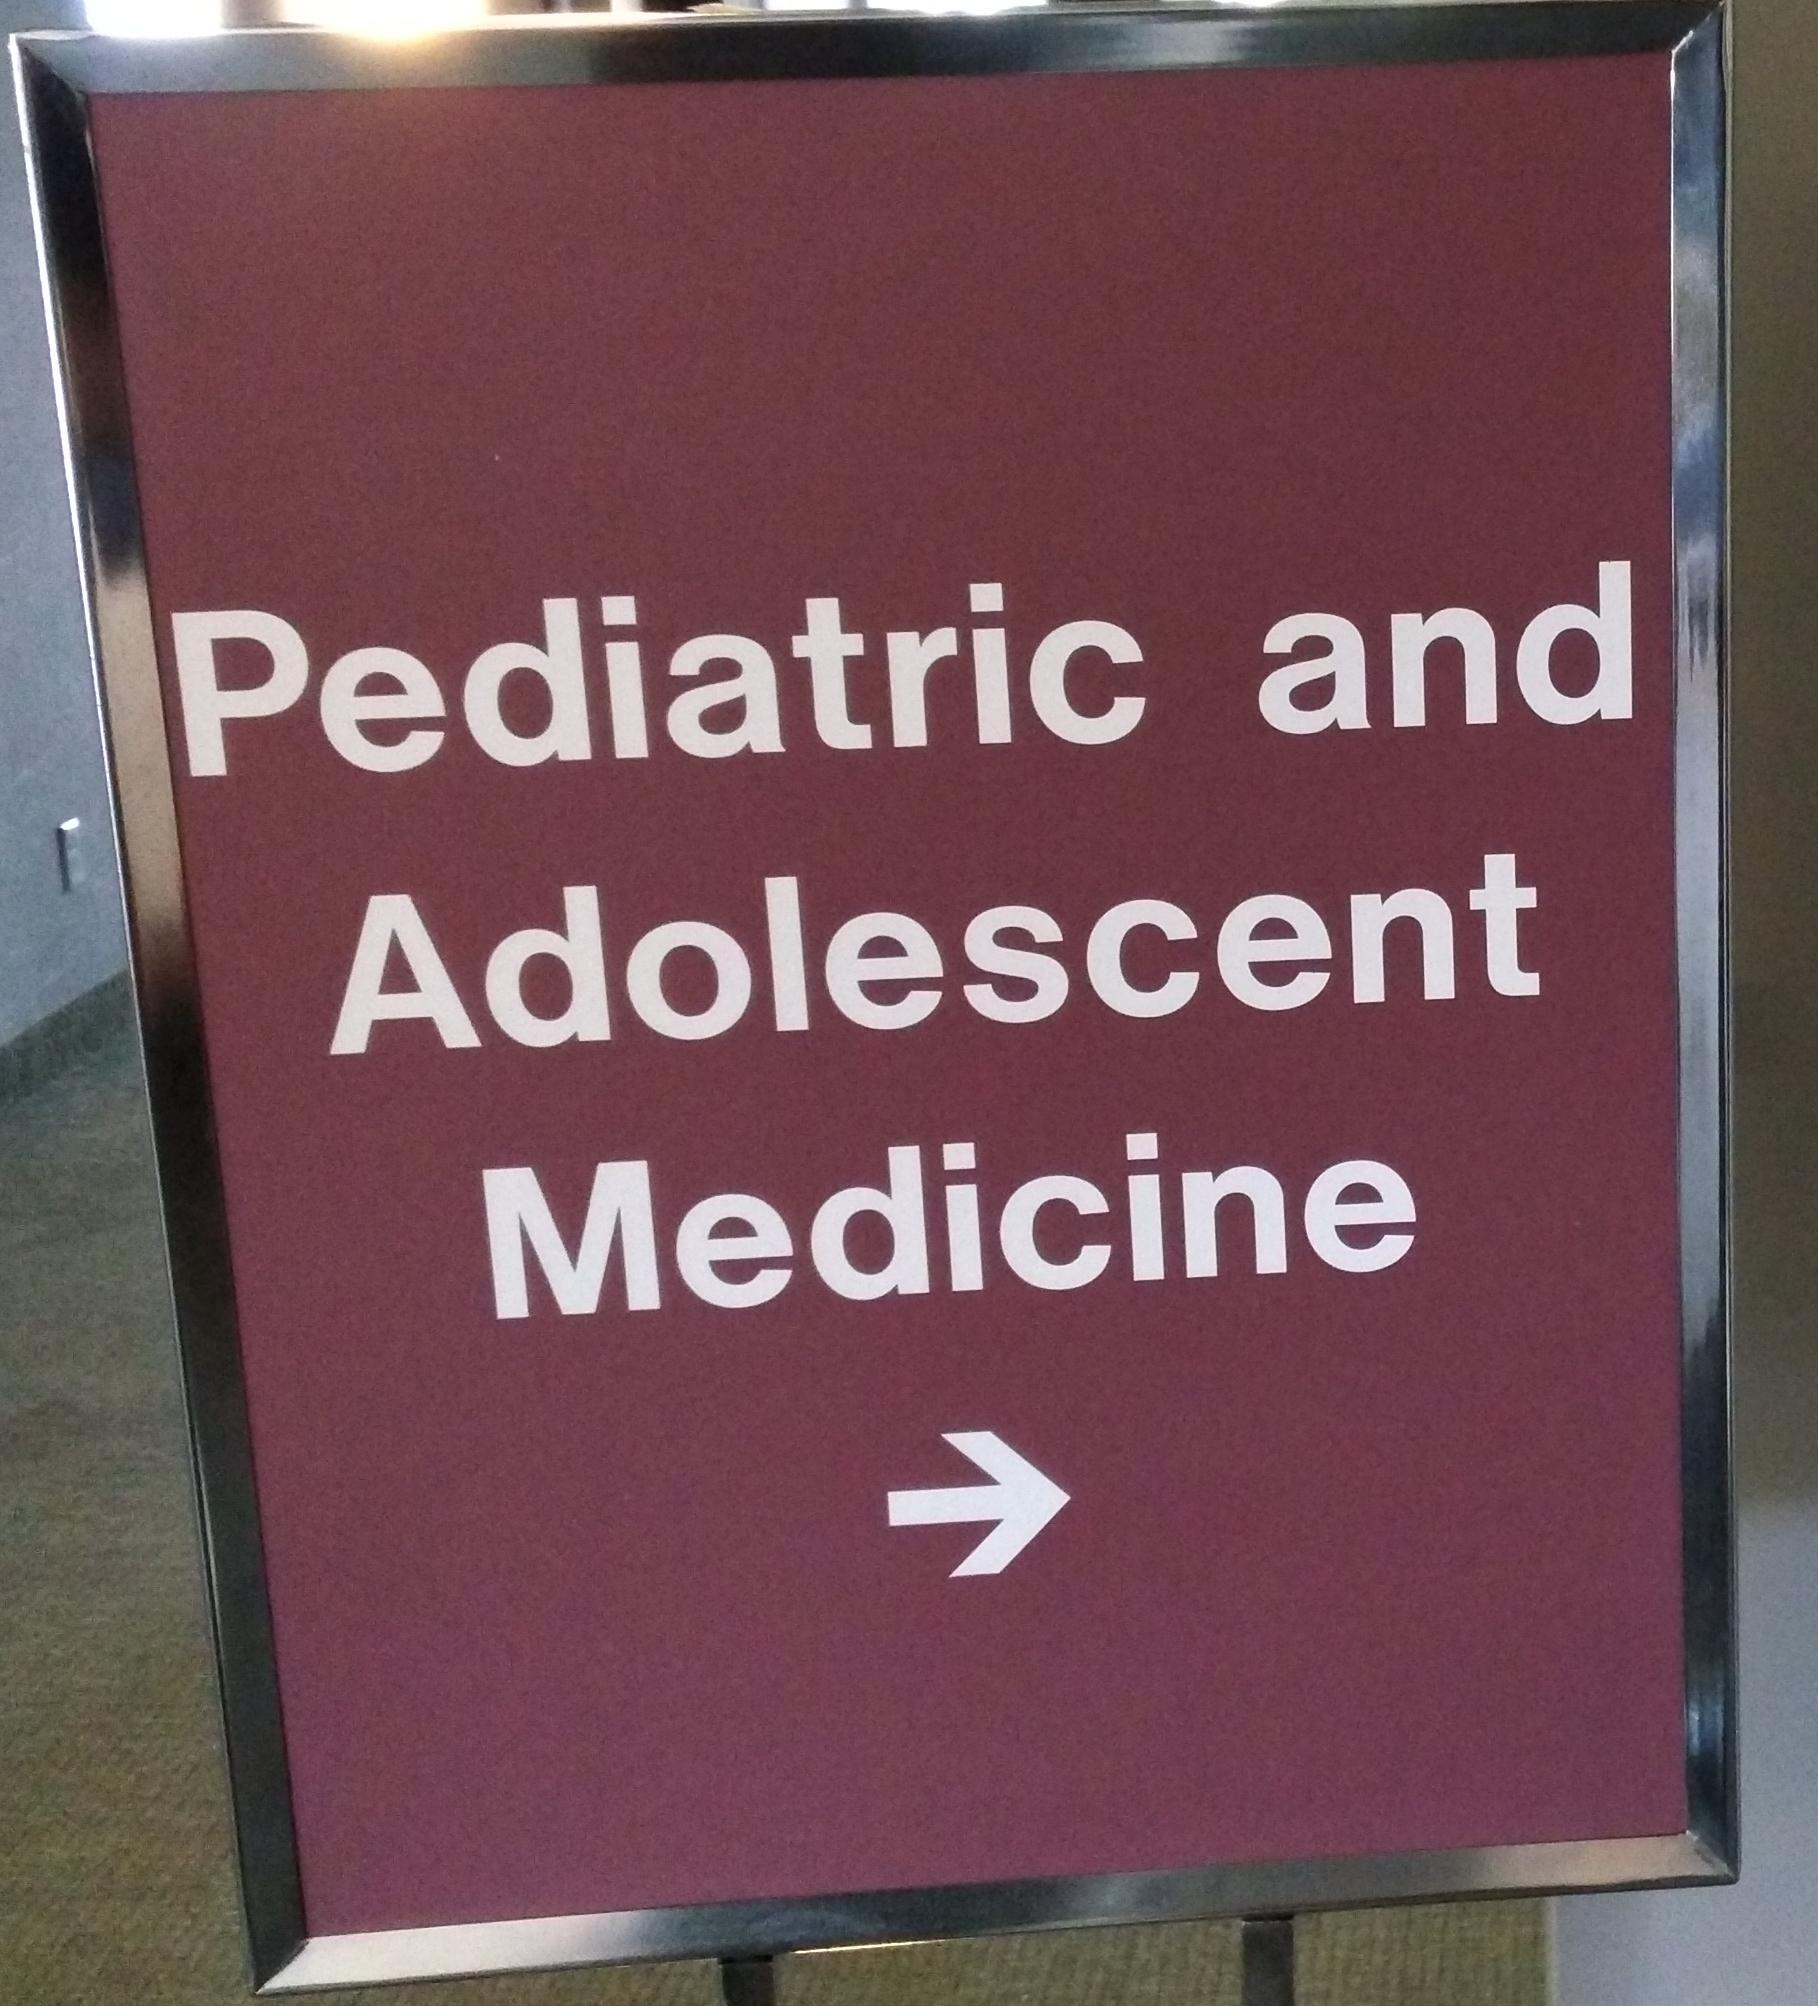sign: (9, 10, 1750, 1994)
